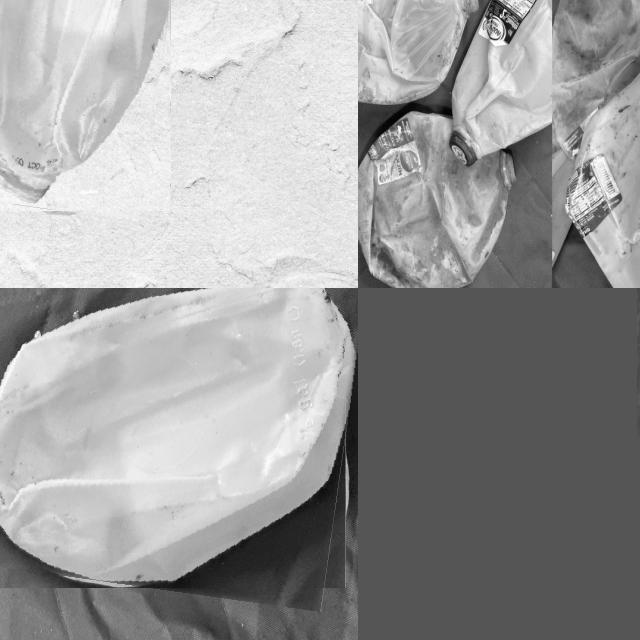milk-jug: (0, 288, 356, 600), (0, 0, 185, 216), (358, 118, 522, 288), (442, 0, 555, 154), (566, 53, 640, 288), (358, 0, 482, 102), (551, 0, 640, 140)
